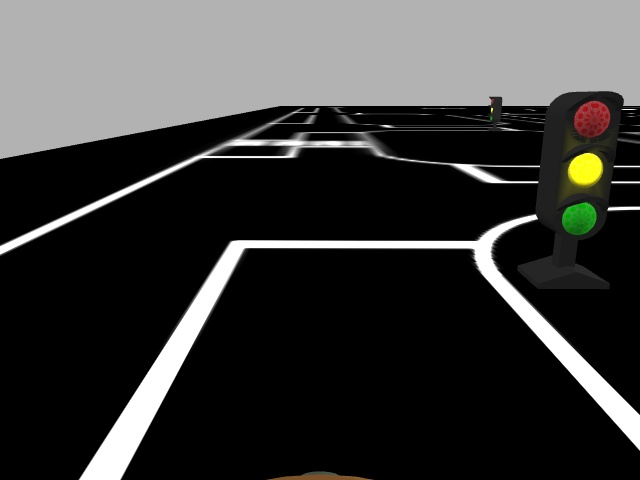yellow_light: (547, 90, 621, 241)
